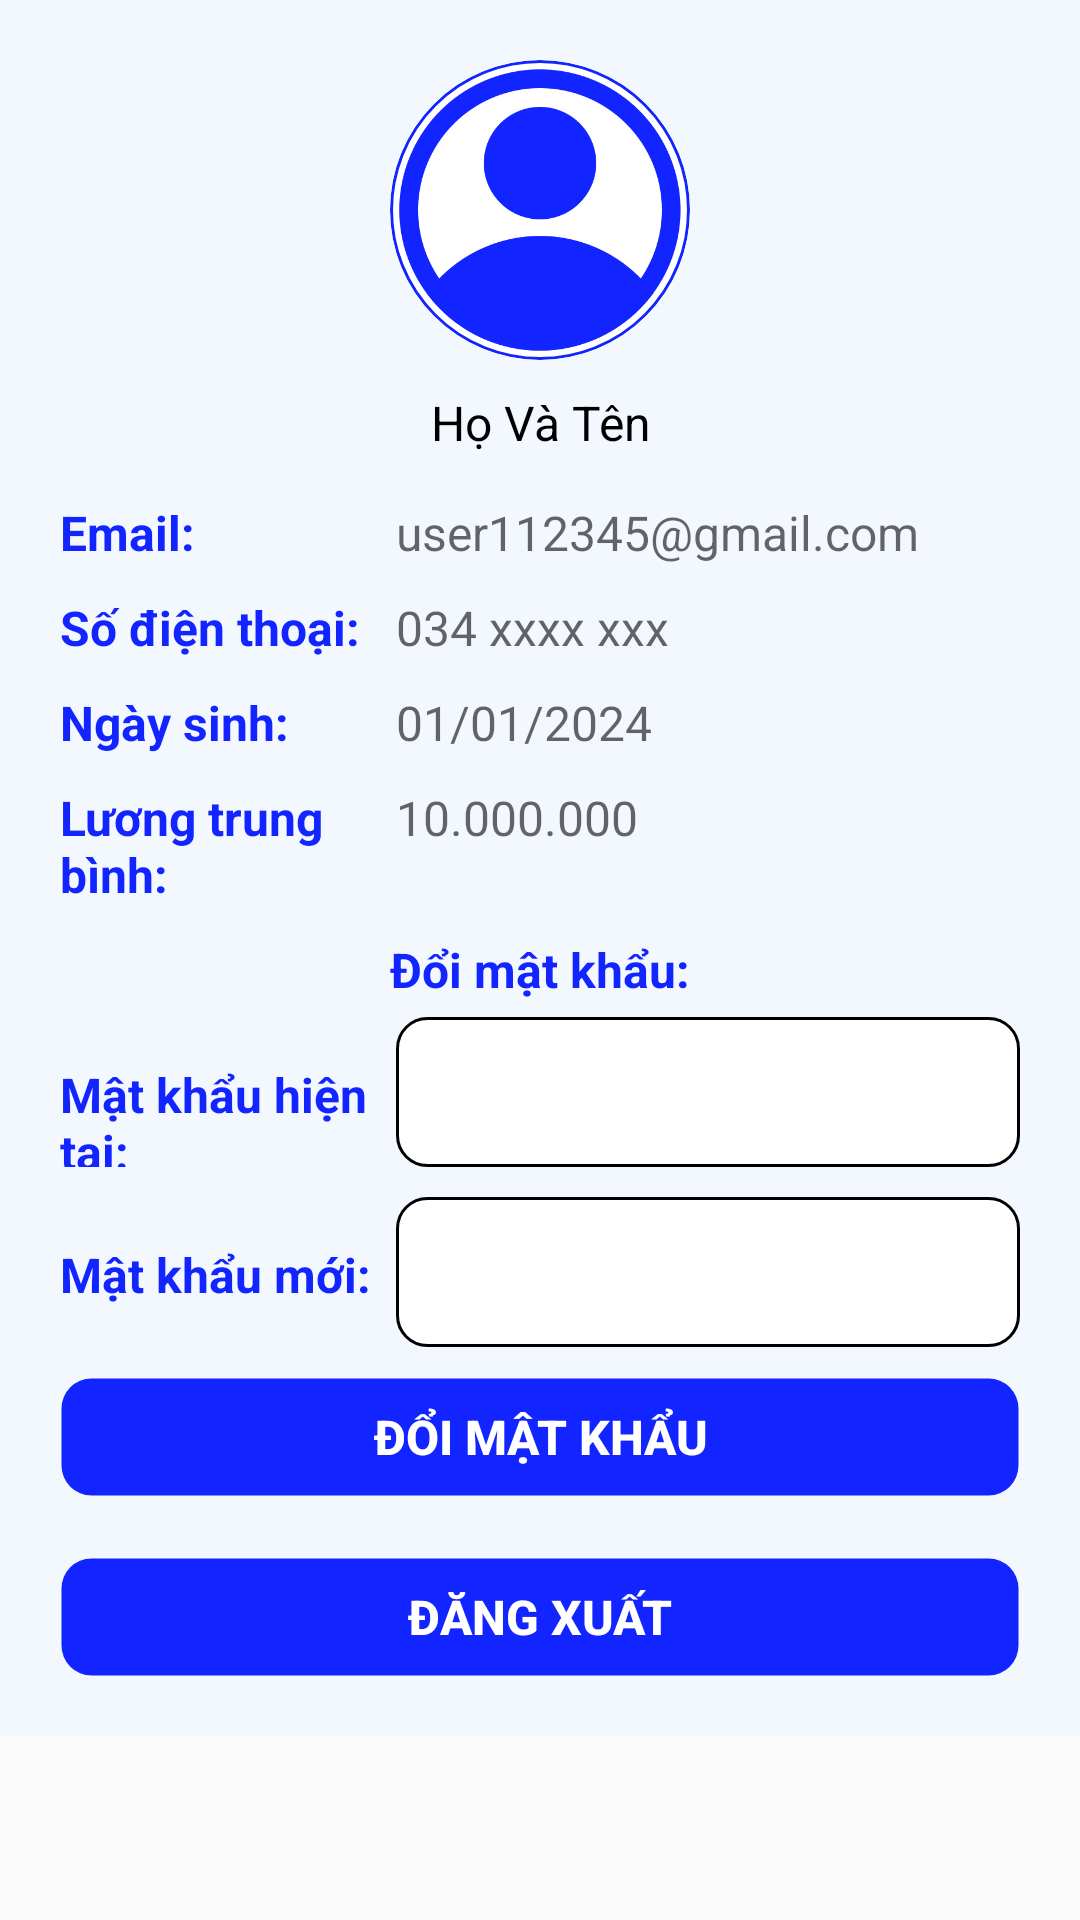

Where to tap for icons on this 1080px x 1920px app screen, as (x=x, y=y):
account: (x=540, y=210)
